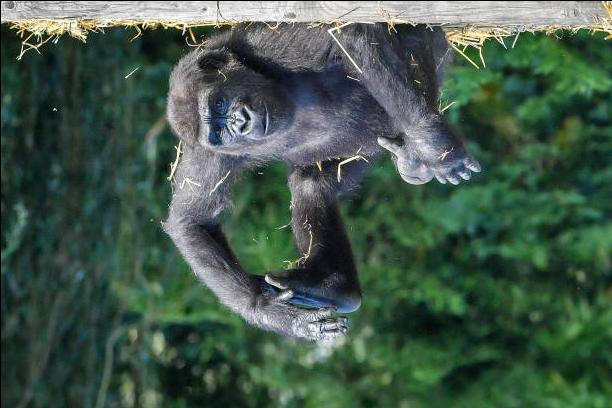gorille_Autres: (137, 6, 502, 340)
